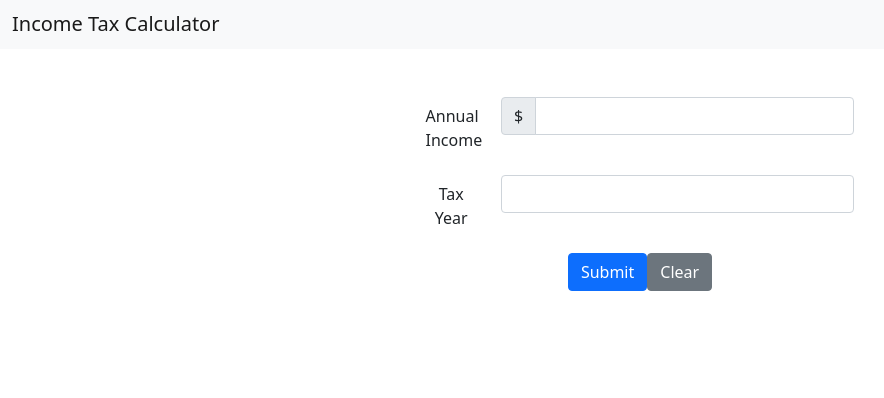
Test case: Testing Dashboard › Clear after invalid submit
The width and height of the screenshot is (884, 398).
Type "20,000" into the field with id "income" at (695, 116), box [535,97,854,135]
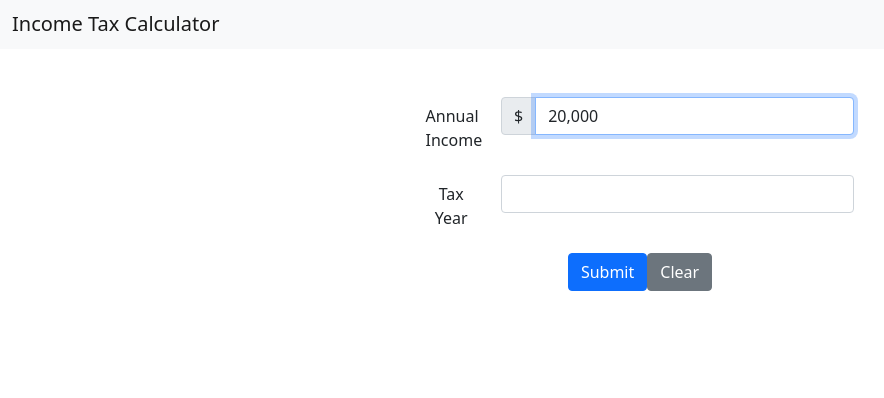
Type "2017" into the field with id "year" at (678, 194), box [501,175,855,213]
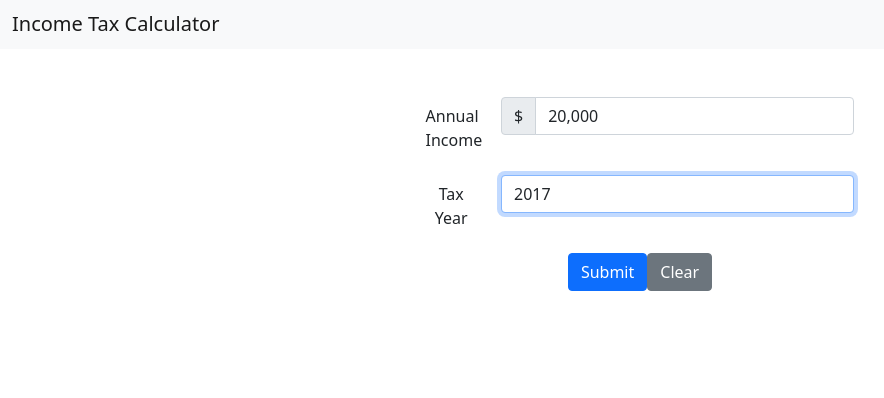
Click the button with id "submit" at (608, 272), box [568,253,647,291]
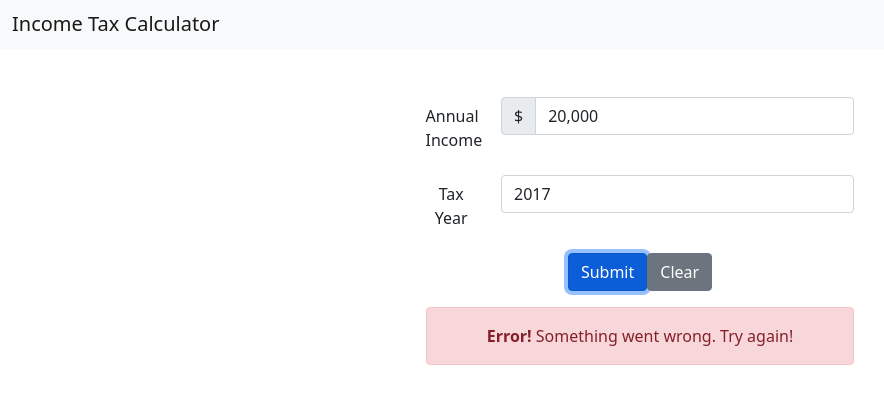
Check: the element with test id "error" is shown, box [414,307,867,381]
Click the button with id "clear" at (680, 272), box [647,253,712,291]
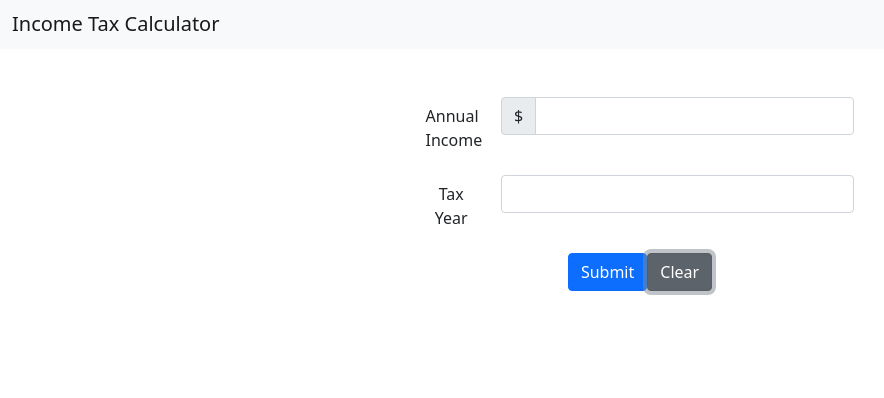
Check: the element with test id "error" is gone
